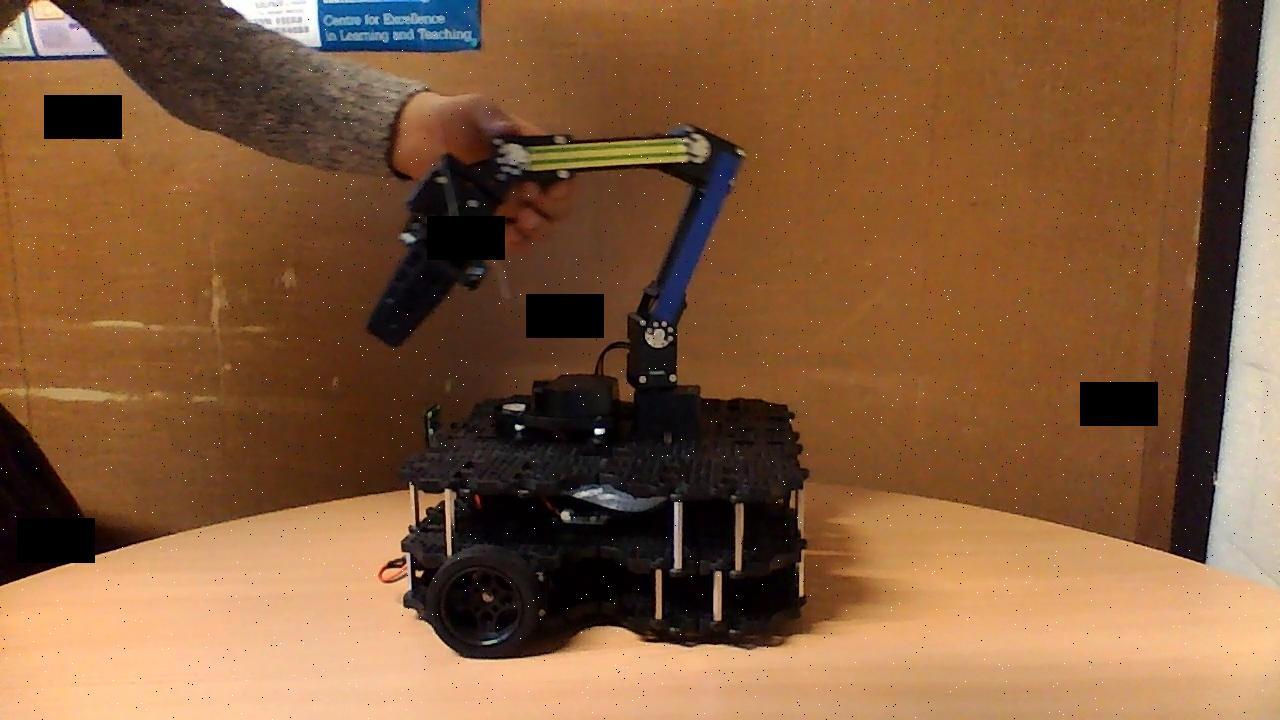Arm: (626, 145, 748, 351)
Hand: (365, 148, 528, 356)
Wrist: (495, 128, 715, 187)
base: (376, 372, 810, 661)
